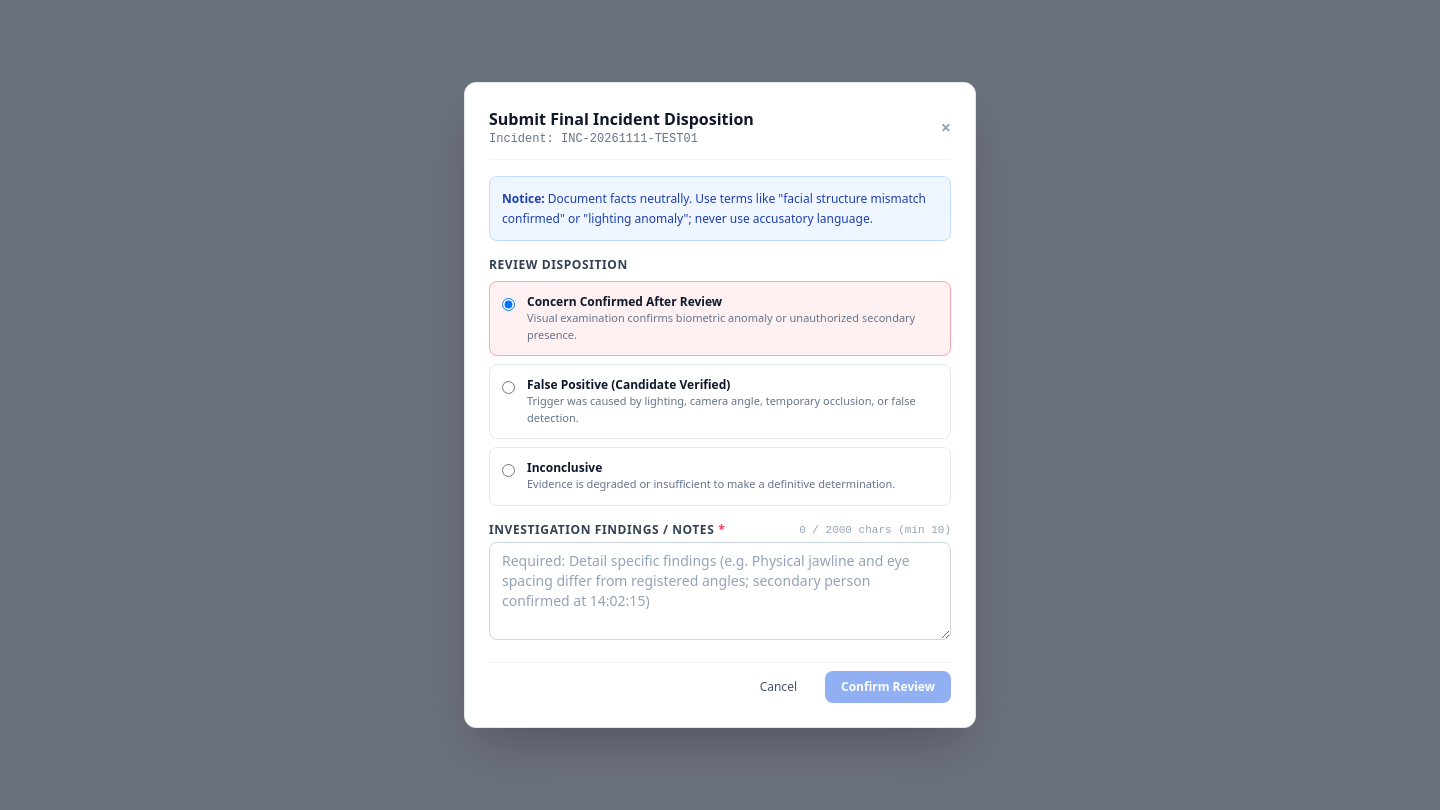
Test: ReviewDialog Component › requires note >= 10 characters for CONFIRMED_CONCERN before allowing submission
Expected: the button "Confirm Review" is disabled, [825,671,951,703]
Replace the text in the text box with placeholder "Required: Detail specific findings" with "short" at x=720, y=591, box [489,542,951,640]
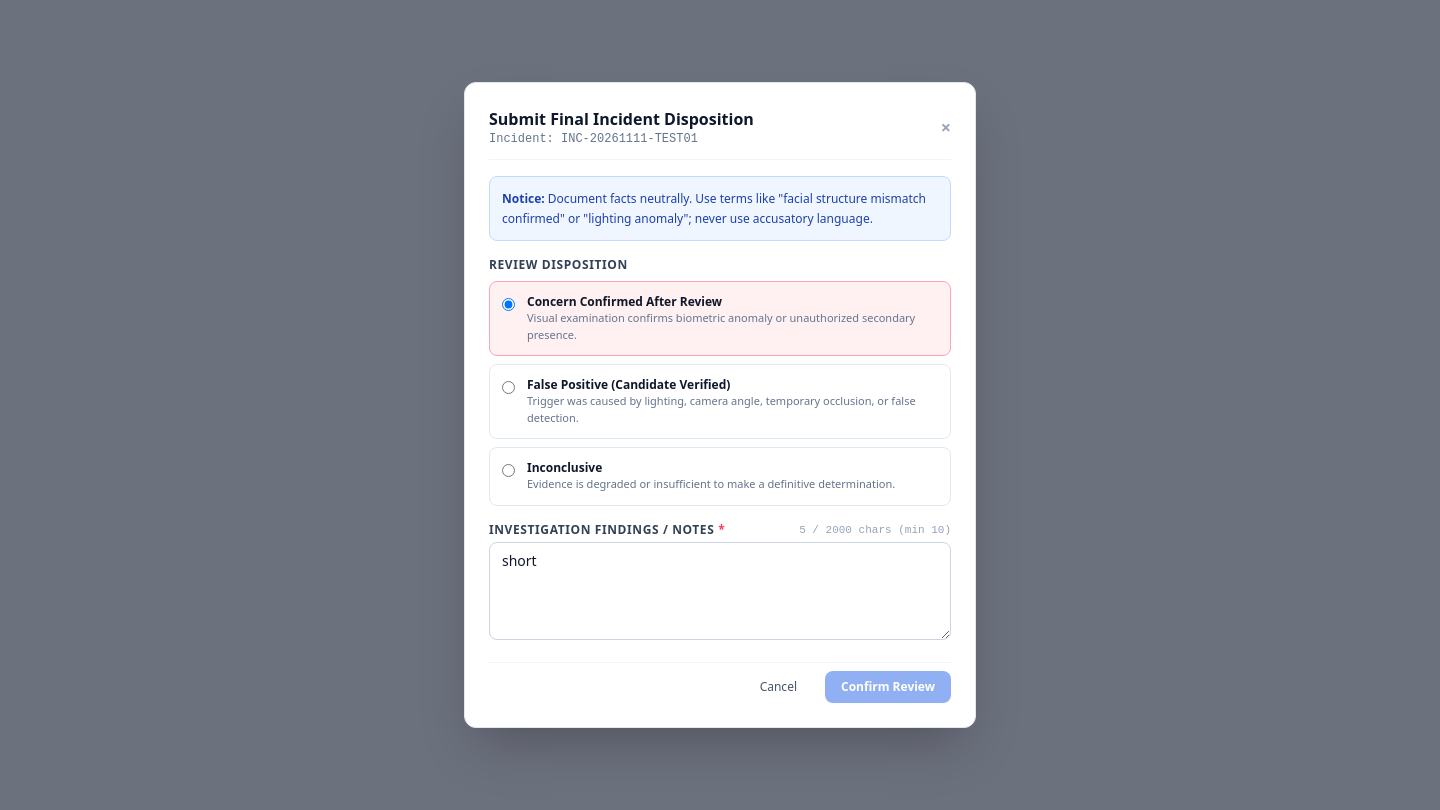
Expected: the button "Confirm Review" is disabled, [825,671,951,703]
Replace the text in the text box with placeholder "Required: Detail specific findings" with "Physical identity differs significantly from profile" at x=720, y=591, box [489,542,951,640]
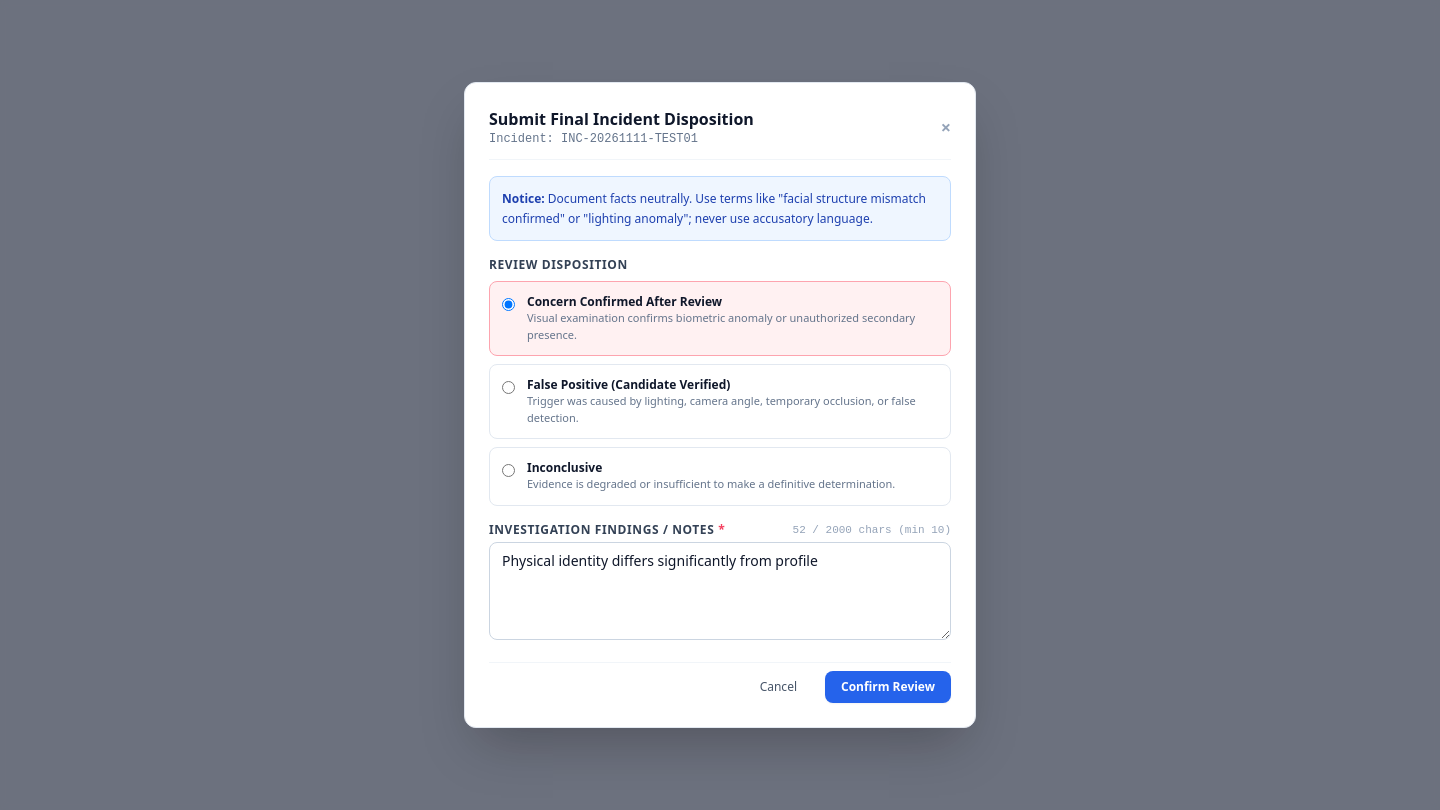
Expected: the button "Confirm Review" is enabled, [825,671,951,703]
